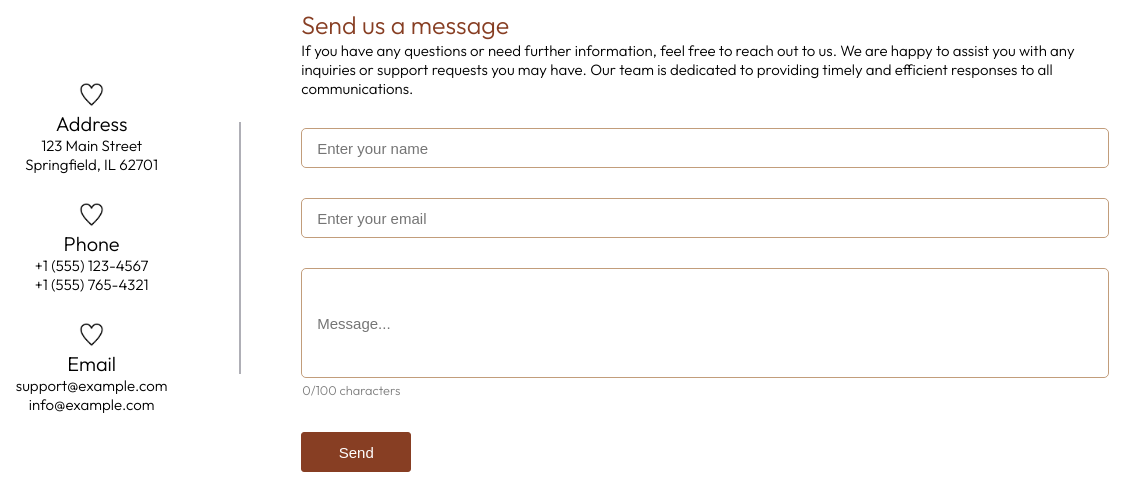
Test: Contact Component › shows an error for invalid email format
The image size is (1126, 489).
Type "invalid-email" into the field with placeholder "Enter your email" at (705, 218), box [302, 199, 1108, 237]
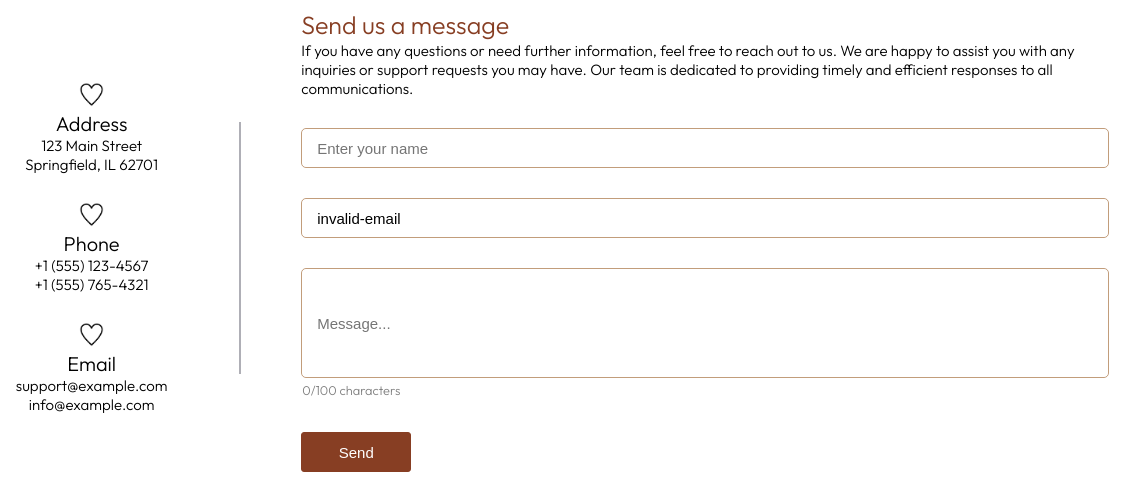
Click the button "Send" at (356, 452), box [301, 432, 411, 472]
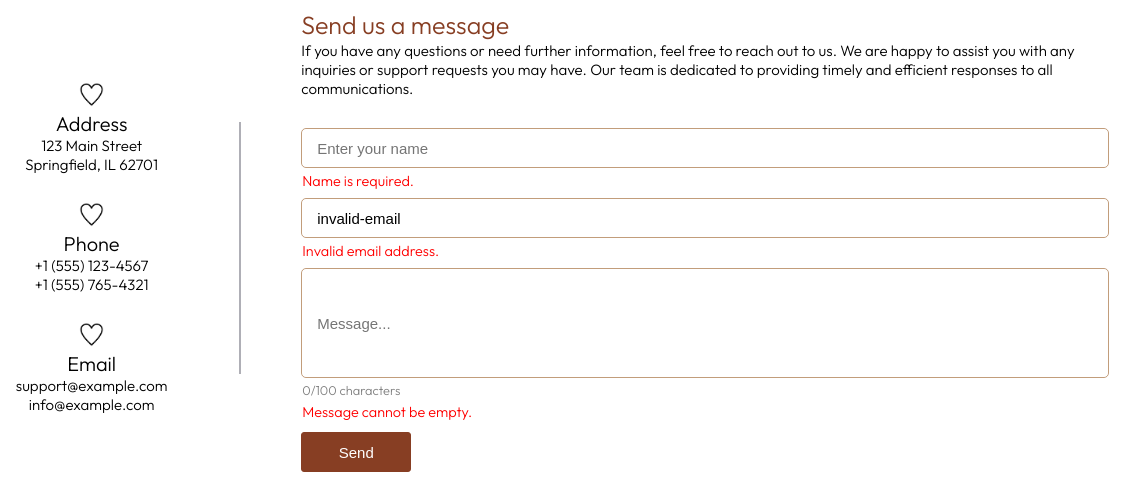
Expected: the text "Invalid email address." is shown, [302, 242, 439, 260]
